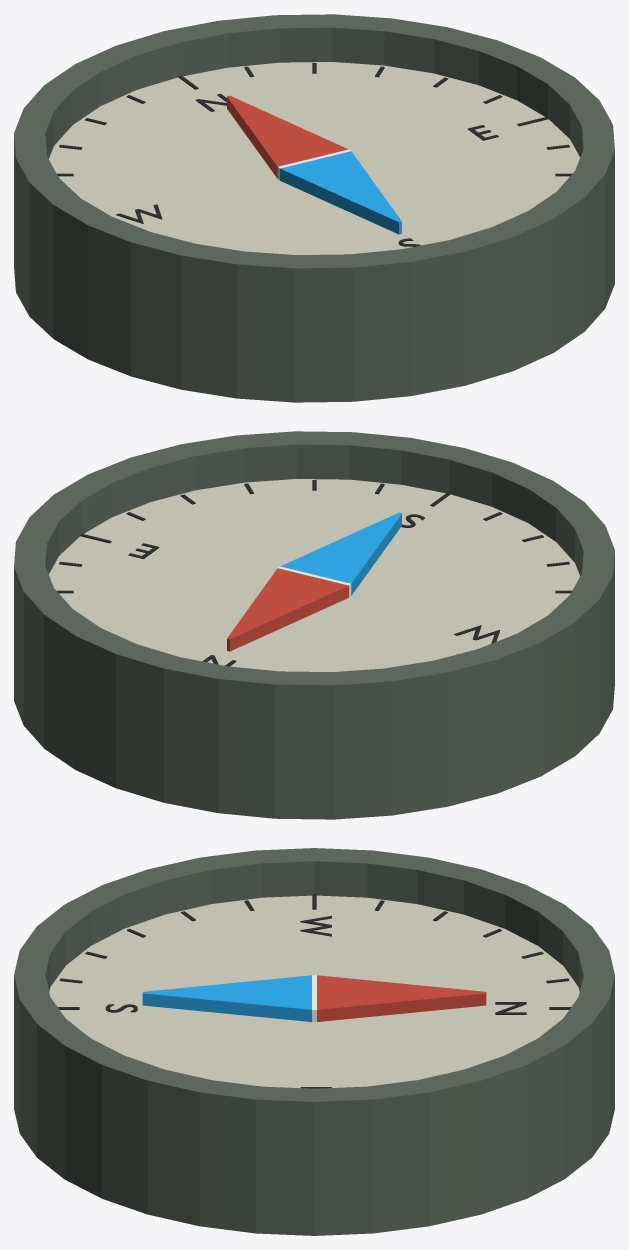
The model's file is hand_compass.glb.
The picture shows the model from 3 angles, top to bottom: view 1: azimuth 30°, elevation 25°; view 2: azimuth 150°, elevation 25°; view 3: azimuth 270°, elevation 25°; orthographic projection.
Visible parts, largest first — view 1: compass_body, compass_needle; view 2: compass_body, compass_needle; view 3: compass_body, compass_needle.
Boxes of the visible parts, x1=… form: compass_body: x1=14, y1=14, x2=614, y2=402; compass_needle: x1=227, y1=95, x2=401, y2=234; compass_body: x1=14, y1=431, x2=614, y2=819; compass_needle: x1=227, y1=512, x2=401, y2=651; compass_body: x1=14, y1=848, x2=614, y2=1235; compass_needle: x1=142, y1=975, x2=486, y2=1021.
Bounding box in the file's own units: 0.105 × 0.0258 × 0.105.
Materials: 4 (1 with a texture image).
